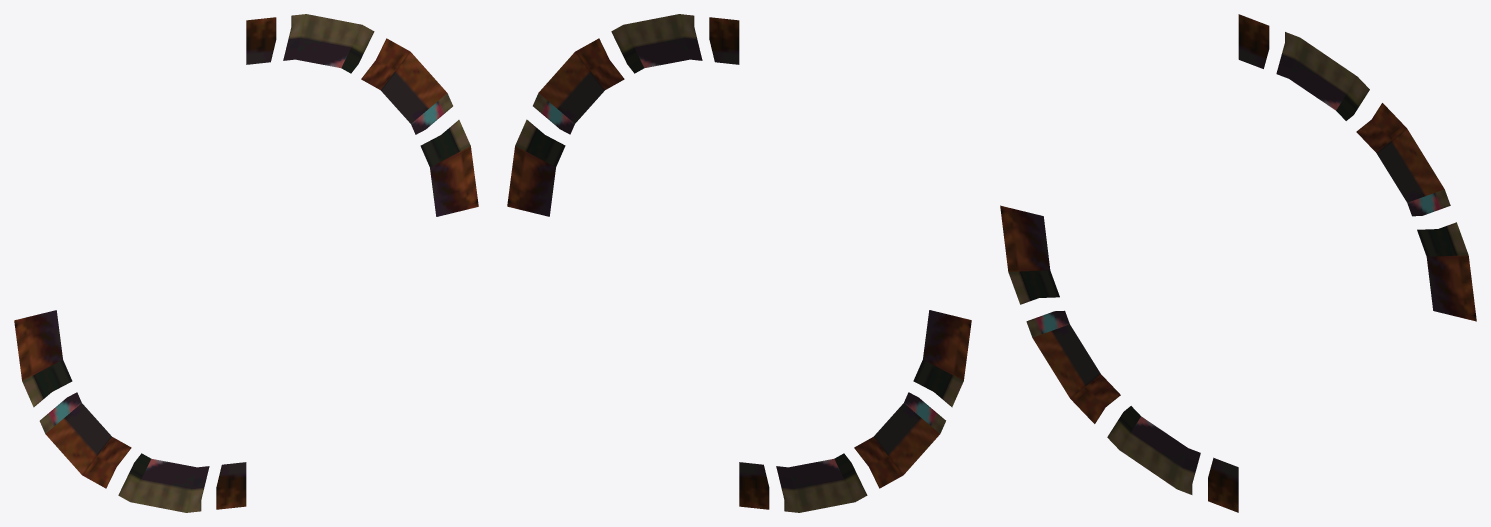
3 views of the same model, side by side, from view 1: azimuth 30°, elevation 25°; view 2: azimuth 150°, elevation 25°; view 3: azimuth 330°, elevation 25° (orthographic). The views are drawn at different scales.
Visible parts, largest first — view 1: T1L2M006_22; view 2: T1L2M006_22; view 3: T1L2M006_22.
Boxes of the visible parts, left/top/right/bottom form: T1L2M006_22: left=14, top=14, right=478, bottom=512; T1L2M006_22: left=507, top=14, right=971, bottom=512; T1L2M006_22: left=1000, top=14, right=1476, bottom=512.
Size of the model in its own units: 2.06 by 2.06 by 0.000977.
